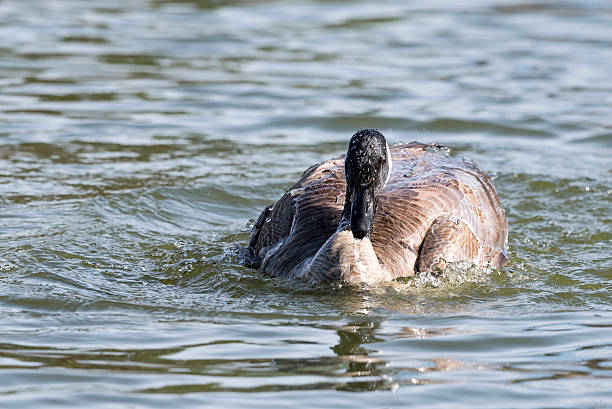goose: (243, 127, 514, 299)
